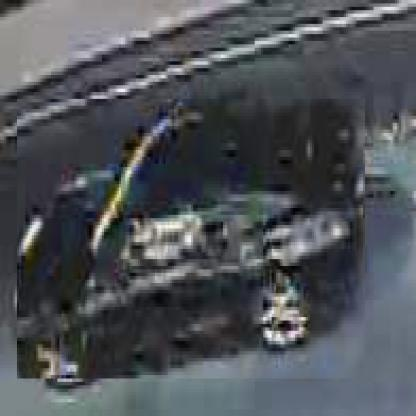car: (18, 100, 368, 383)
